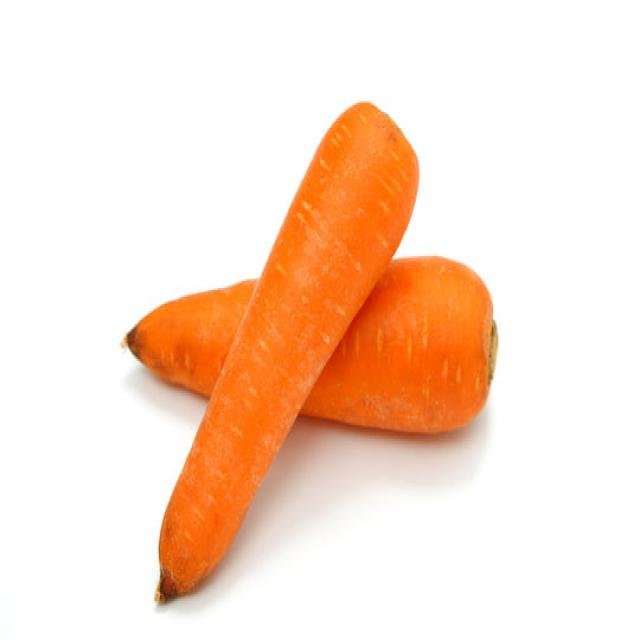Carrot: (153, 98, 419, 602), (122, 254, 498, 436), (120, 276, 258, 398)
